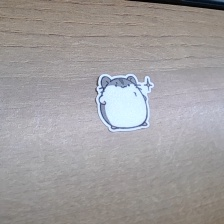mouse: (95, 73, 156, 133)
